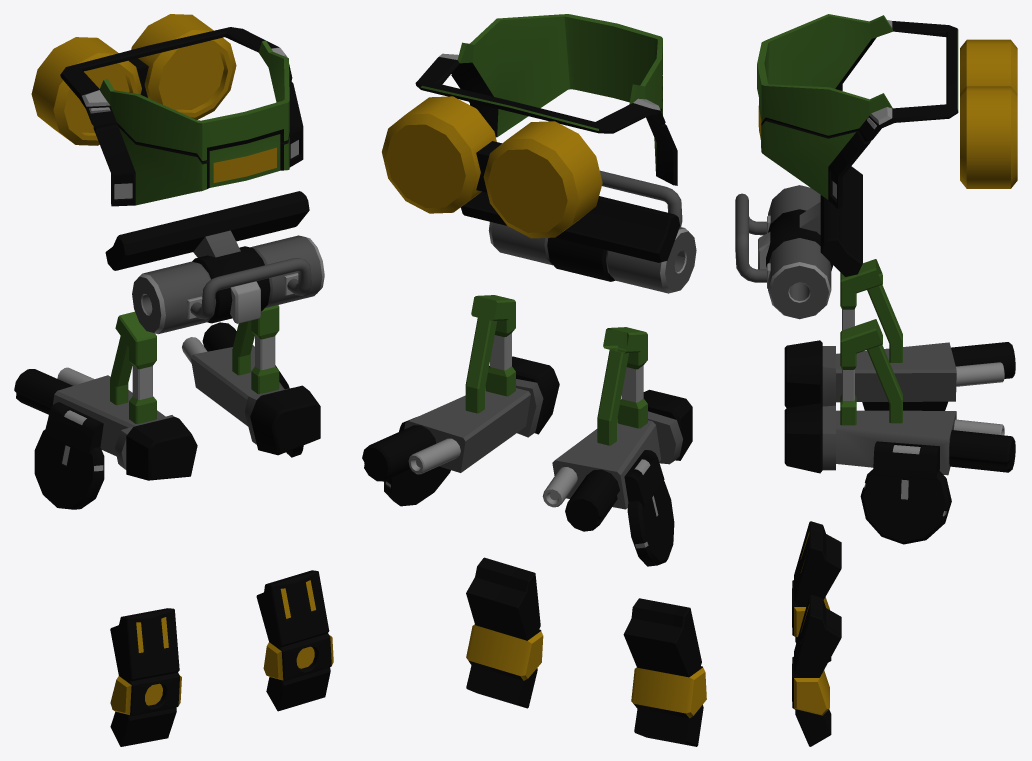
Rendered from character_boss_armor.fbx.
3 renders of one model, left to right at view 1: azimuth 30°, elevation 25°; view 2: azimuth 150°, elevation 25°; view 3: azimuth 270°, elevation 25°, orthographic. The views are drawn at different scales.
Parts seen in each view (by area): view 1: arm_part_4_boss, arm_part_2_boss, arm_part_6_boss, arm_part_1_boss, arm_part_5_boss, arm_part_7_boss, arm_part_3_boss; view 2: arm_part_4_boss, arm_part_1_boss, arm_part_6_boss, arm_part_5_boss, arm_part_2_boss, arm_part_7_boss, arm_part_3_boss; view 3: arm_part_5_boss, arm_part_4_boss, arm_part_6_boss, arm_part_2_boss, arm_part_1_boss, arm_part_3_boss, arm_part_7_boss.
Part boxes in pixels (left/top/right/bottom): arm_part_4_boss: left=60, top=27, right=303, bottom=206; arm_part_2_boss: left=105, top=191, right=324, bottom=334; arm_part_6_boss: left=14, top=311, right=197, bottom=509; arm_part_1_boss: left=31, top=14, right=236, bottom=145; arm_part_5_boss: left=182, top=305, right=320, bottom=457; arm_part_7_boss: left=110, top=608, right=181, bottom=746; arm_part_3_boss: left=256, top=570, right=333, bottom=711; arm_part_4_boss: left=415, top=14, right=677, bottom=185; arm_part_1_boss: left=382, top=96, right=602, bottom=238; arm_part_6_boss: left=542, top=327, right=692, bottom=566; arm_part_5_boss: left=362, top=295, right=559, bottom=506; arm_part_2_boss: left=461, top=170, right=696, bottom=293; arm_part_7_boss: left=623, top=598, right=706, bottom=746; arm_part_3_boss: left=466, top=557, right=543, bottom=708; arm_part_5_boss: left=784, top=319, right=1015, bottom=544; arm_part_4_boss: left=757, top=14, right=958, bottom=209; arm_part_6_boss: left=784, top=259, right=1015, bottom=410; arm_part_2_boss: left=735, top=166, right=862, bottom=319; arm_part_1_boss: left=960, top=39, right=1017, bottom=188; arm_part_3_boss: left=792, top=595, right=841, bottom=746; arm_part_7_boss: left=792, top=521, right=841, bottom=662.
Bounding box in the file's own units: 45.67 × 113 × 44.51.
